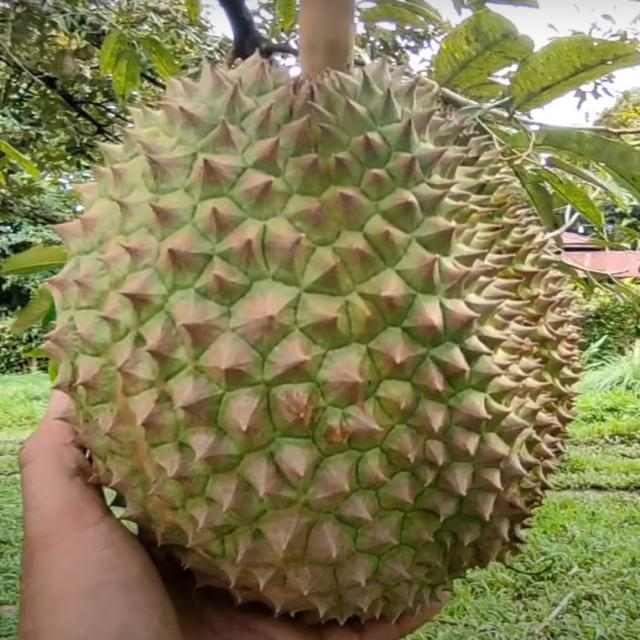mature: (47, 45, 588, 634)
